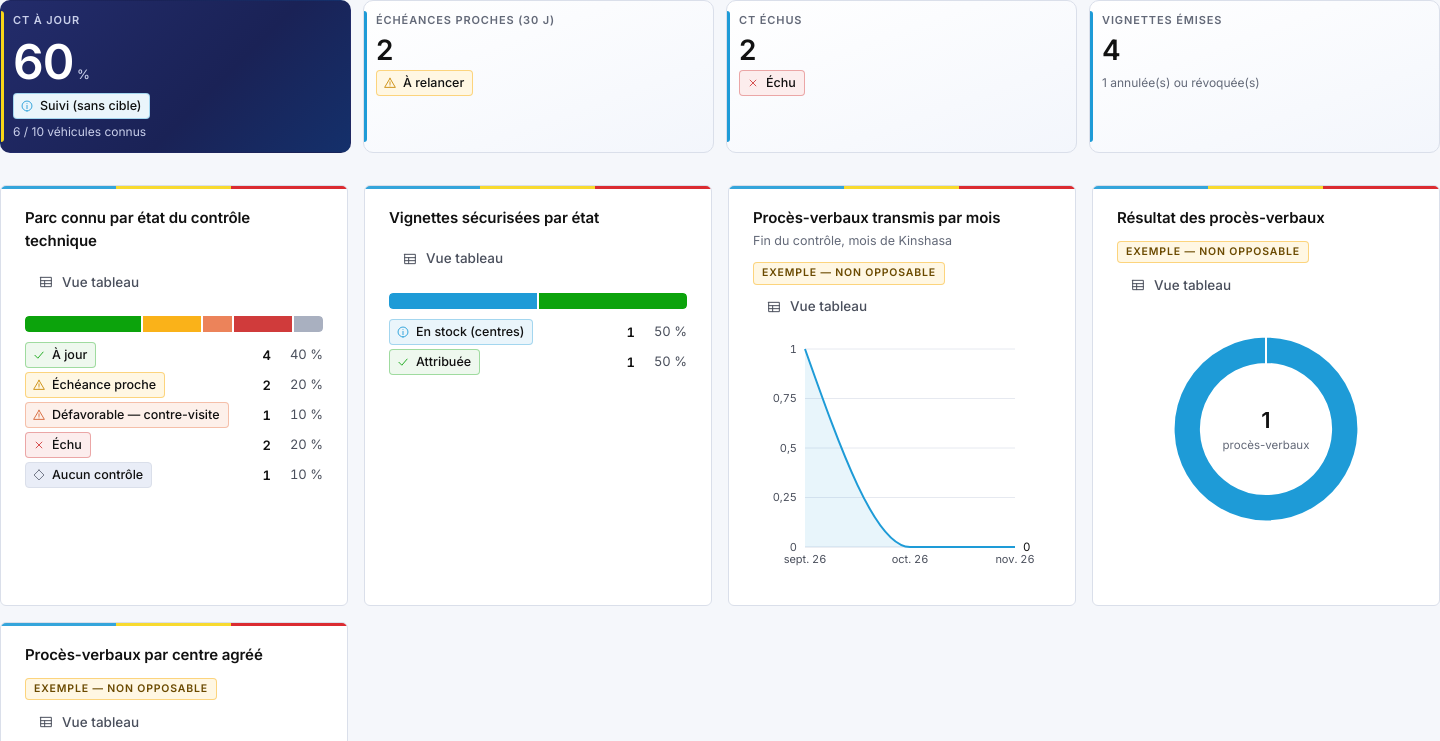
Test case: chaîne véhicule › parc par état (états disjoints), vignettes, vue tableau
Expected: the text "EXEMPLE — non opposable" below "Fin du contrôle, mois de Kinshasa" is shown, [762,266,936,279]
Click the 2nd button "Vue tableau": [89, 282] box [25,264,152,300]
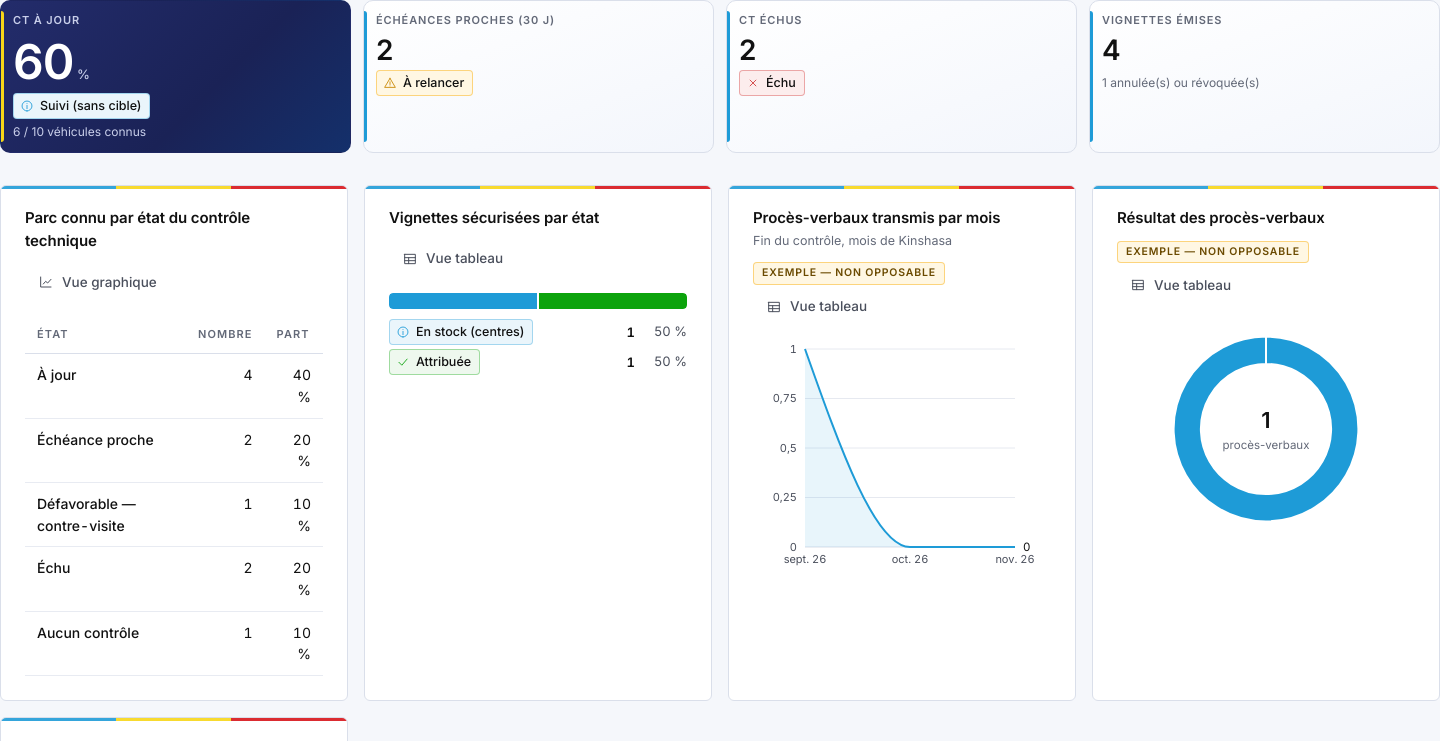
Result: the table is shown at [25,316,323,676]
